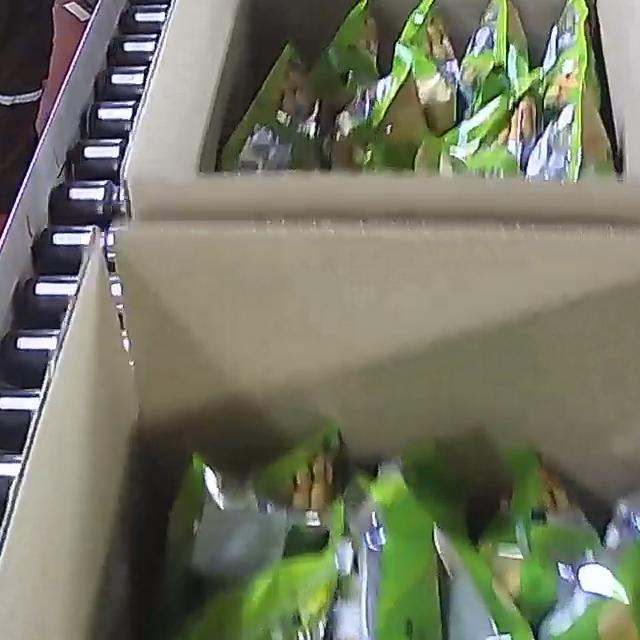yogurt: (102, 425, 640, 640), (213, 0, 608, 182)
